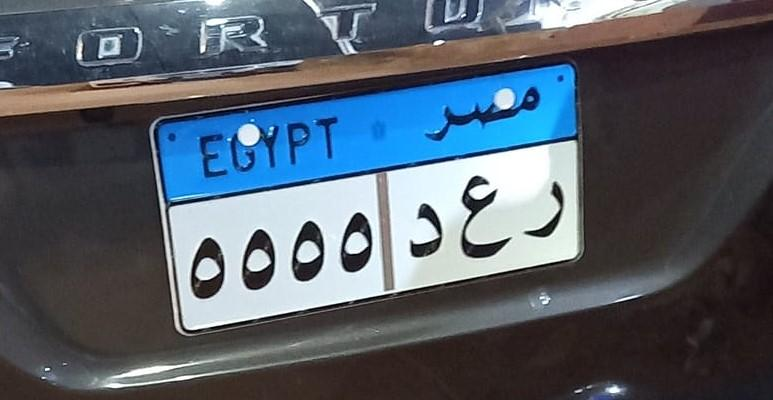5: (185, 231, 228, 307), (333, 205, 378, 276), (236, 227, 282, 296), (287, 217, 330, 290)
ain: (457, 168, 510, 266)
daal: (403, 187, 449, 266)
raa: (523, 175, 572, 249)
